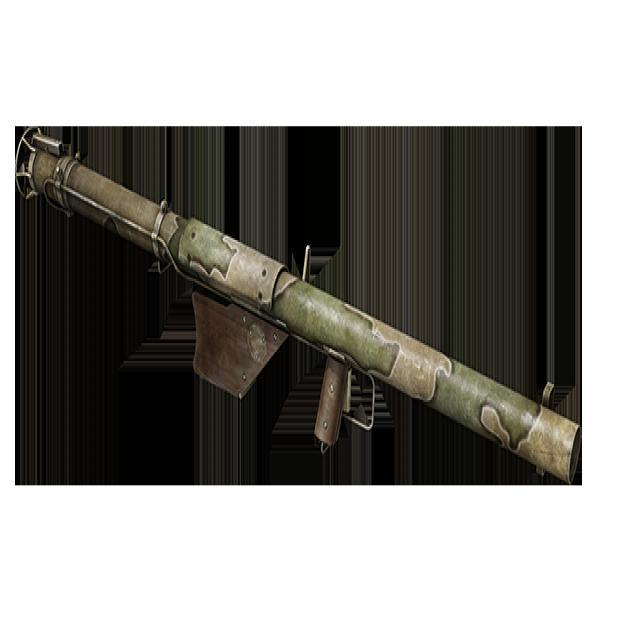rocket launcher: (10, 114, 582, 522)
